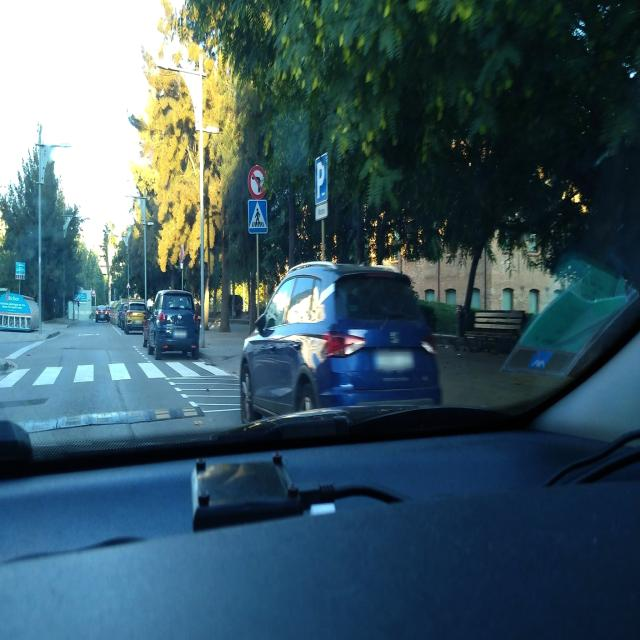car: (239, 259, 443, 422), (146, 289, 201, 358), (124, 300, 148, 334), (116, 302, 128, 328), (95, 305, 109, 323)
